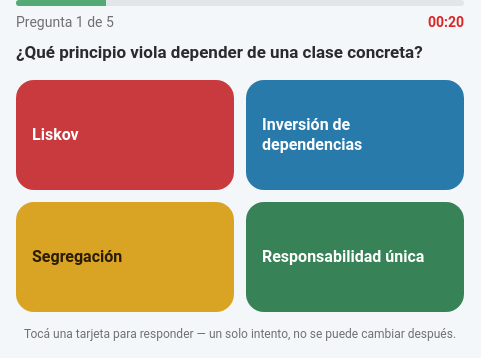
Test case: SesionEnVivoEstudiante › responder (US-6.3.9) › respuesta incorrecta: 'Incorrecto' y +0
Click the button "Liskov": x=125, y=134 x1=16 y1=80 x2=234 y2=190
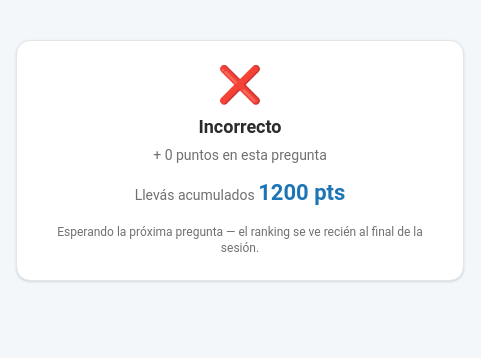
Expected: the heading "Incorrecto" is shown, x1=198 y1=116 x2=282 y2=137
Expected: the text "+ 0 puntos en esta pregunta" is shown, x1=153 y1=147 x2=327 y2=163
